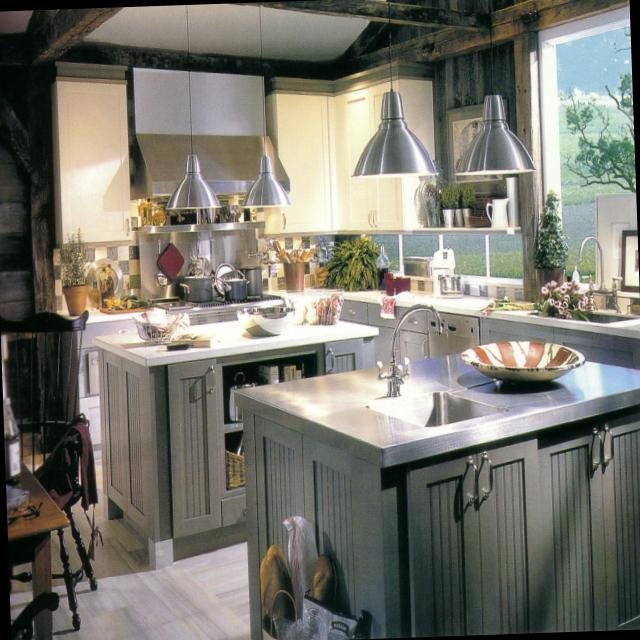2001: (539, 6, 636, 290)
2011: (377, 231, 520, 277)
2041: (115, 298, 137, 305)
apron: (33, 423, 98, 548)
art: (446, 96, 509, 184)
bag: (259, 516, 370, 639)
basket crop: (133, 312, 188, 343), (226, 446, 246, 488)
book case: (171, 330, 223, 346)
books crop: (268, 363, 303, 381)
bottle crop: (3, 396, 21, 485), (376, 242, 388, 290), (152, 203, 167, 224), (137, 198, 147, 226), (571, 261, 580, 287), (145, 196, 152, 224)
bottles: (92, 264, 115, 305)
bowl -X: (464, 341, 584, 380), (224, 205, 239, 220)
box: (288, 294, 340, 325)
bread box: (261, 544, 294, 626), (311, 552, 335, 606)
cabinet door: (59, 61, 132, 237)
cabinets: (240, 404, 640, 640), (97, 336, 376, 568), (275, 60, 433, 231), (480, 317, 640, 368), (341, 299, 428, 363)
cell: (167, 340, 190, 350)
chair -occluded-: (2, 312, 99, 622)
counter: (234, 352, 640, 467), (271, 288, 640, 337), (91, 317, 379, 366), (57, 307, 165, 322)
cups: (382, 271, 411, 293)
cutting board: (102, 292, 148, 312)
dish towels: (380, 297, 397, 316)
dishwasher: (428, 316, 477, 354)
eye: (8, 490, 39, 518)
faucet handle: (376, 304, 442, 396), (579, 234, 624, 310)
floor -X: (10, 433, 248, 640)
flower basket: (482, 298, 538, 316)
flowers in pot: (541, 279, 587, 315)
hanging lamp: (352, 0, 437, 176), (456, 0, 537, 172), (166, 5, 221, 207), (242, 4, 291, 206)
hot mitt: (154, 239, 186, 281)
jar of tea: (422, 159, 445, 226)
lid of bowl -X: (214, 260, 237, 294)
metal bowl: (237, 305, 294, 334)
mixer: (432, 248, 463, 295)
mug: (485, 200, 508, 226)
object: (308, 263, 325, 289)
pictures occluded: (595, 194, 637, 284)
plant -x: (325, 234, 378, 291)
plate food: (90, 256, 122, 291)
pot hanger: (222, 370, 257, 421), (179, 275, 216, 298), (191, 236, 211, 273), (240, 264, 264, 294), (219, 278, 248, 298)
potted fern: (532, 187, 569, 289)
potted plant: (58, 230, 88, 313)
potted plants: (441, 186, 475, 225)
sink basin: (370, 390, 507, 426), (530, 308, 638, 322)
spoon occluded: (158, 234, 166, 284)
stack of plates: (467, 196, 495, 224)
stove burner: (139, 228, 282, 310)
stove top knobs: (134, 65, 290, 196)
table -X: (6, 461, 71, 640)
tin: (401, 254, 432, 278)
tree: (561, 68, 631, 190)
utensils: (273, 239, 315, 289)
wall clock: (0, 0, 628, 451)
